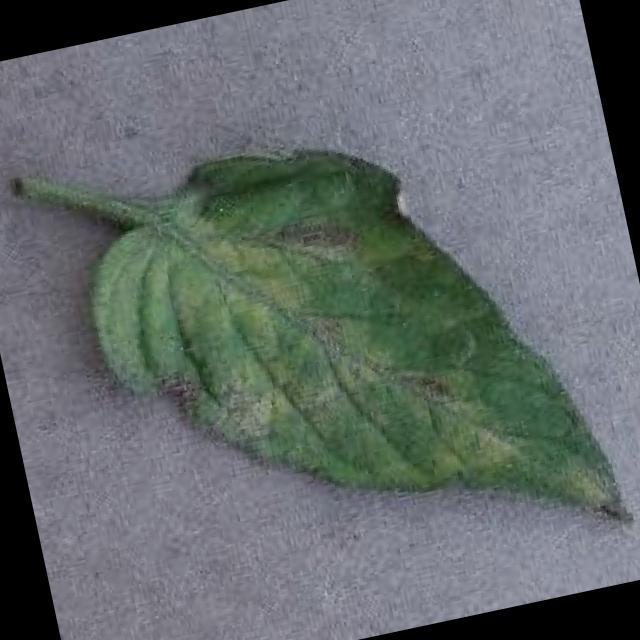Tomato mold leaf: (66, 89, 634, 630)
